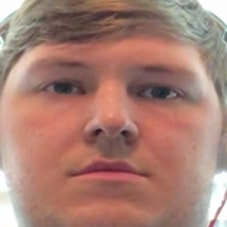awake: (25, 52, 206, 195)
